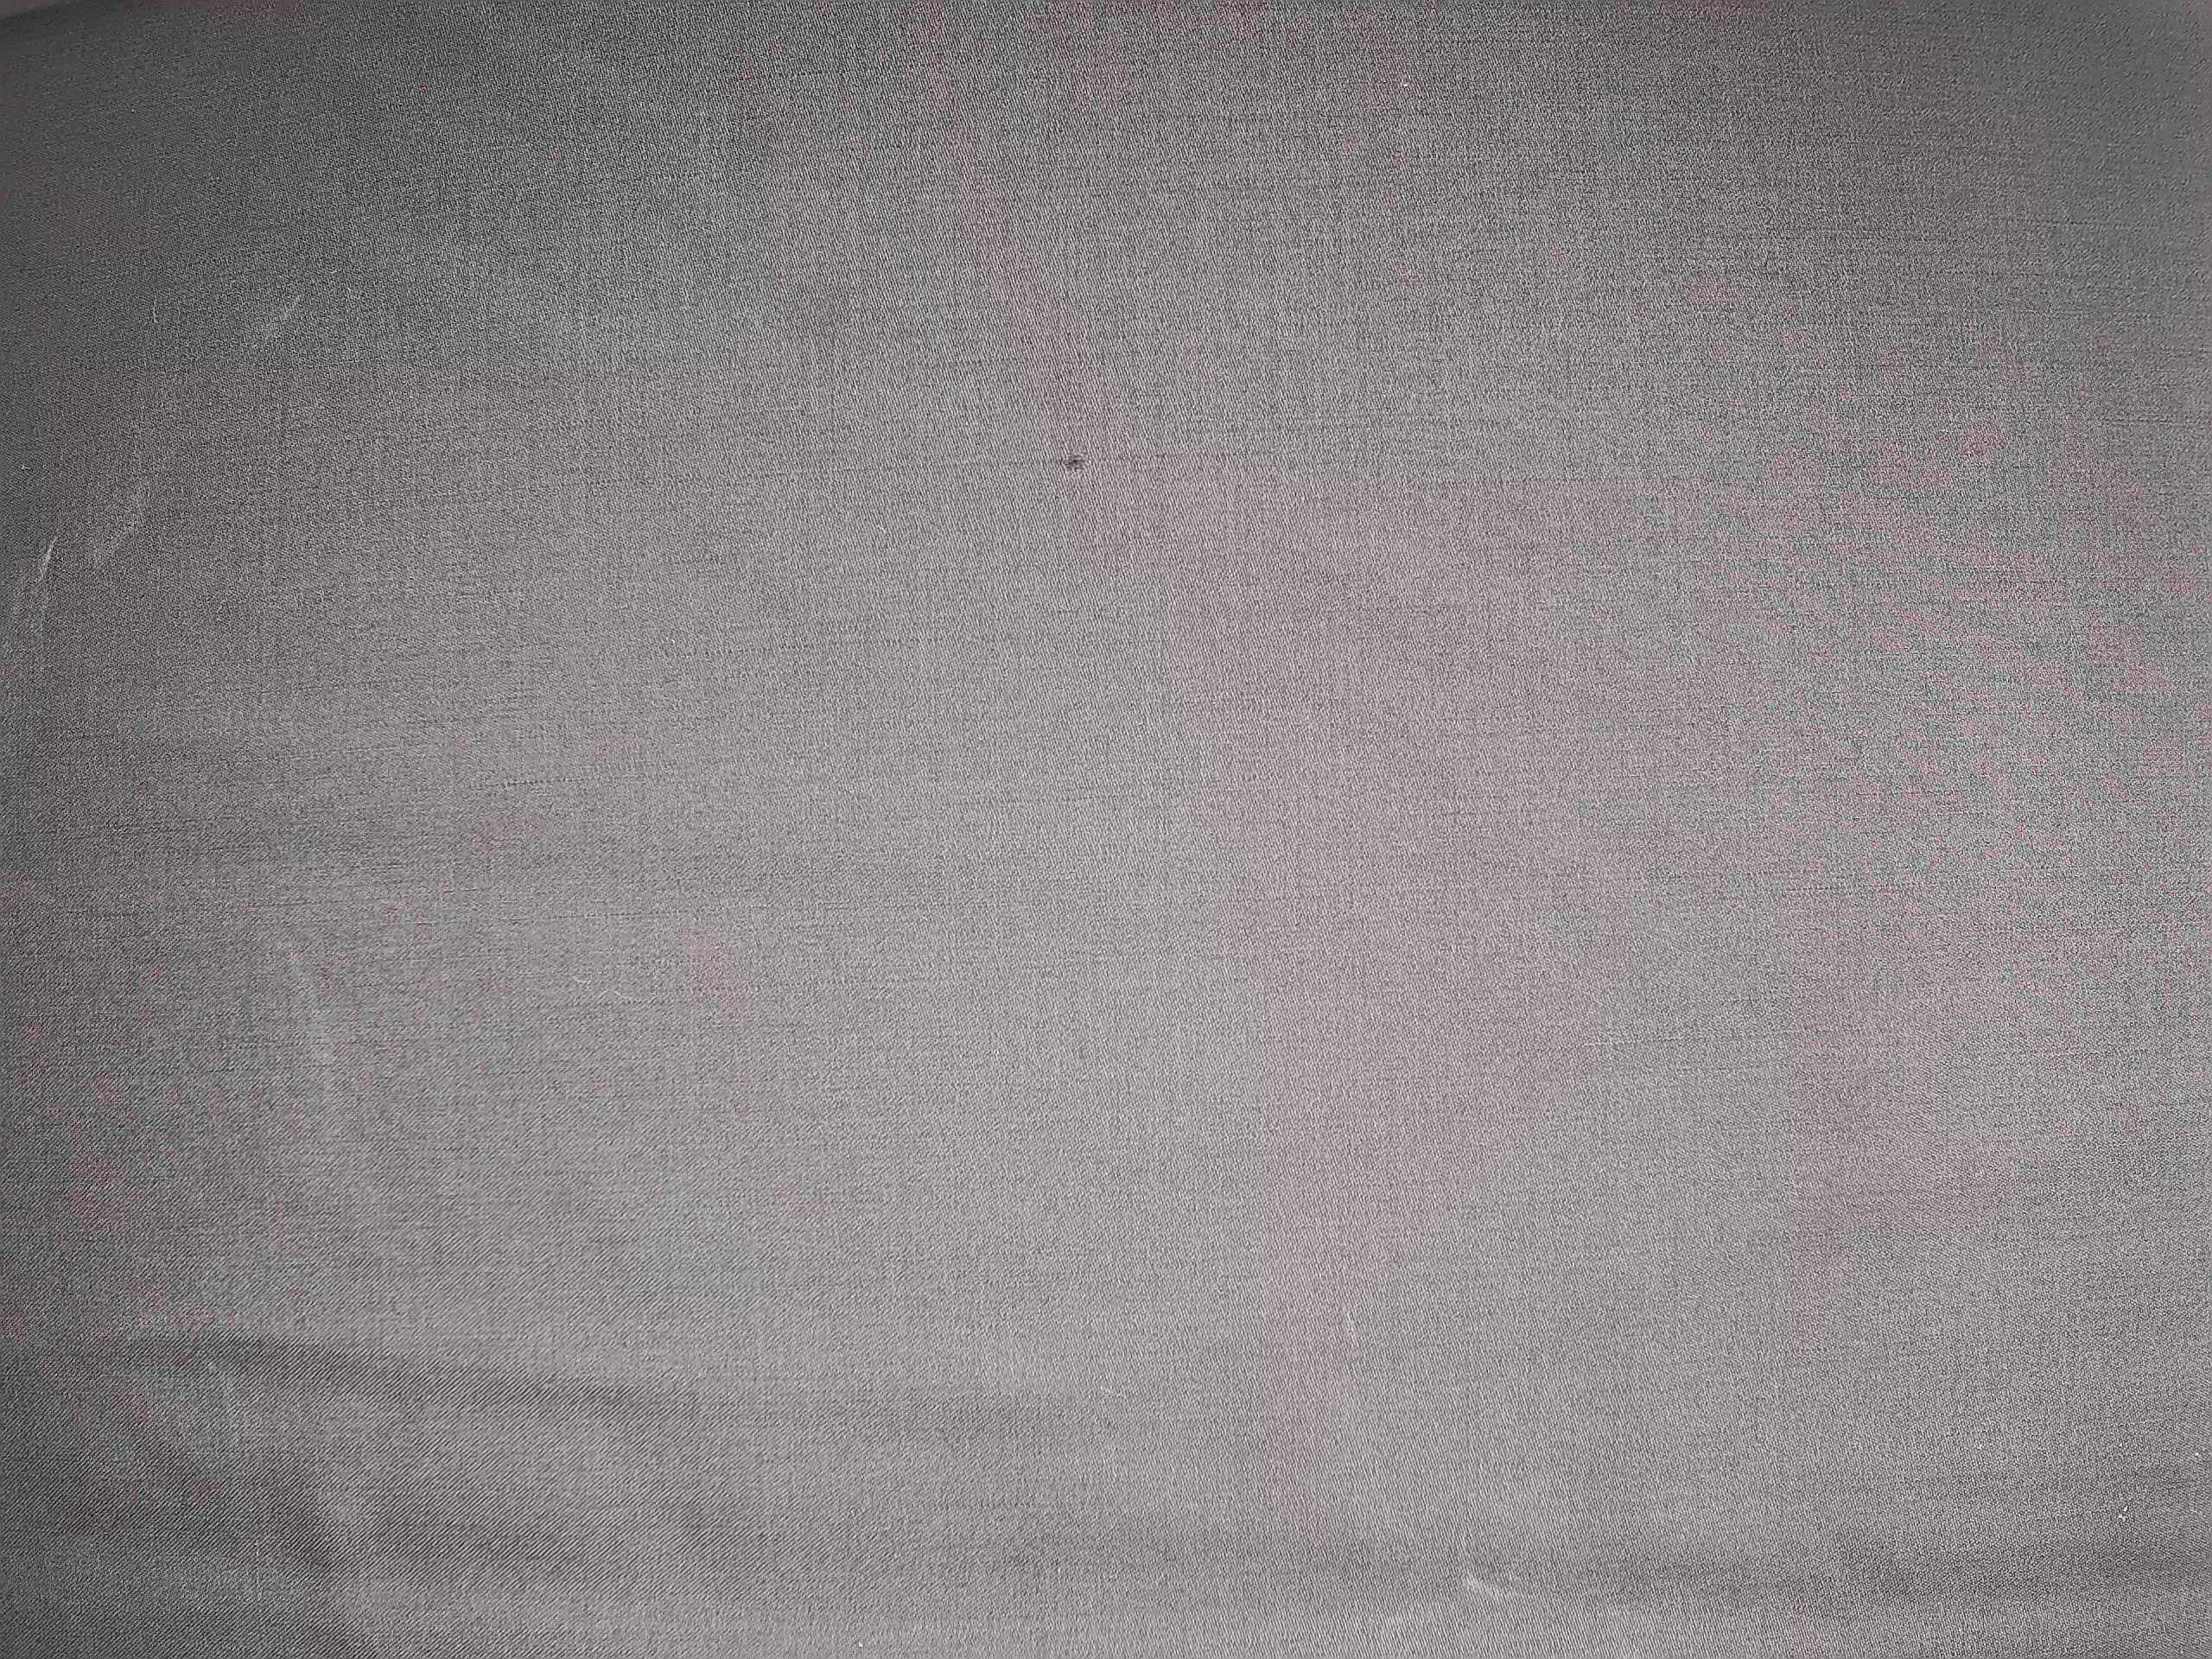rubbing-hole: (1055, 441, 1094, 481)
